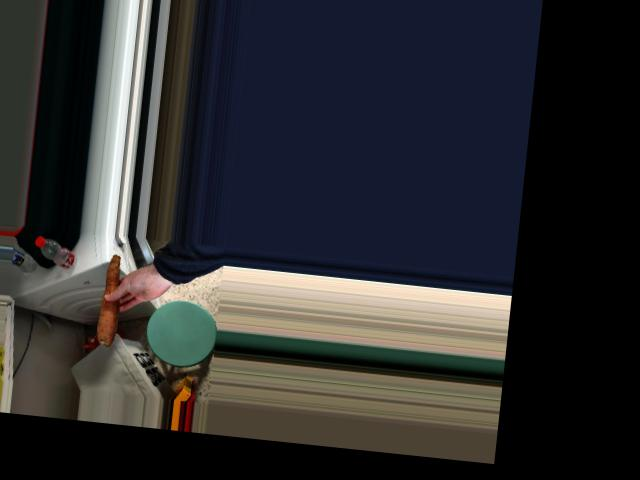sweet_potato: (94, 252, 132, 345)
